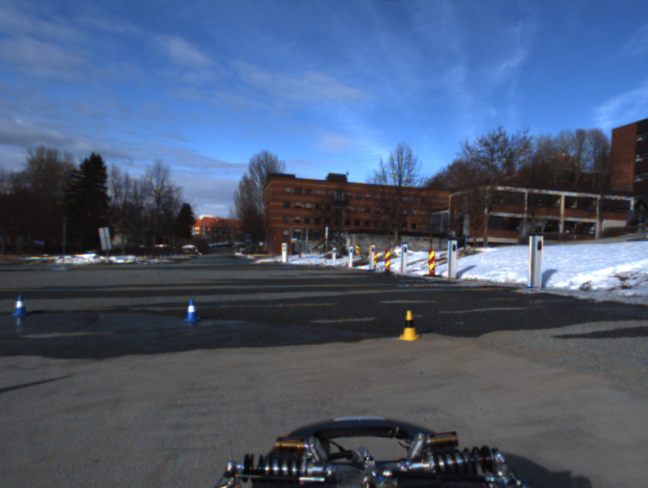cone-small-blue: (182, 299, 200, 323), (10, 295, 28, 317)
cone-small-yellow: (397, 309, 421, 342)
